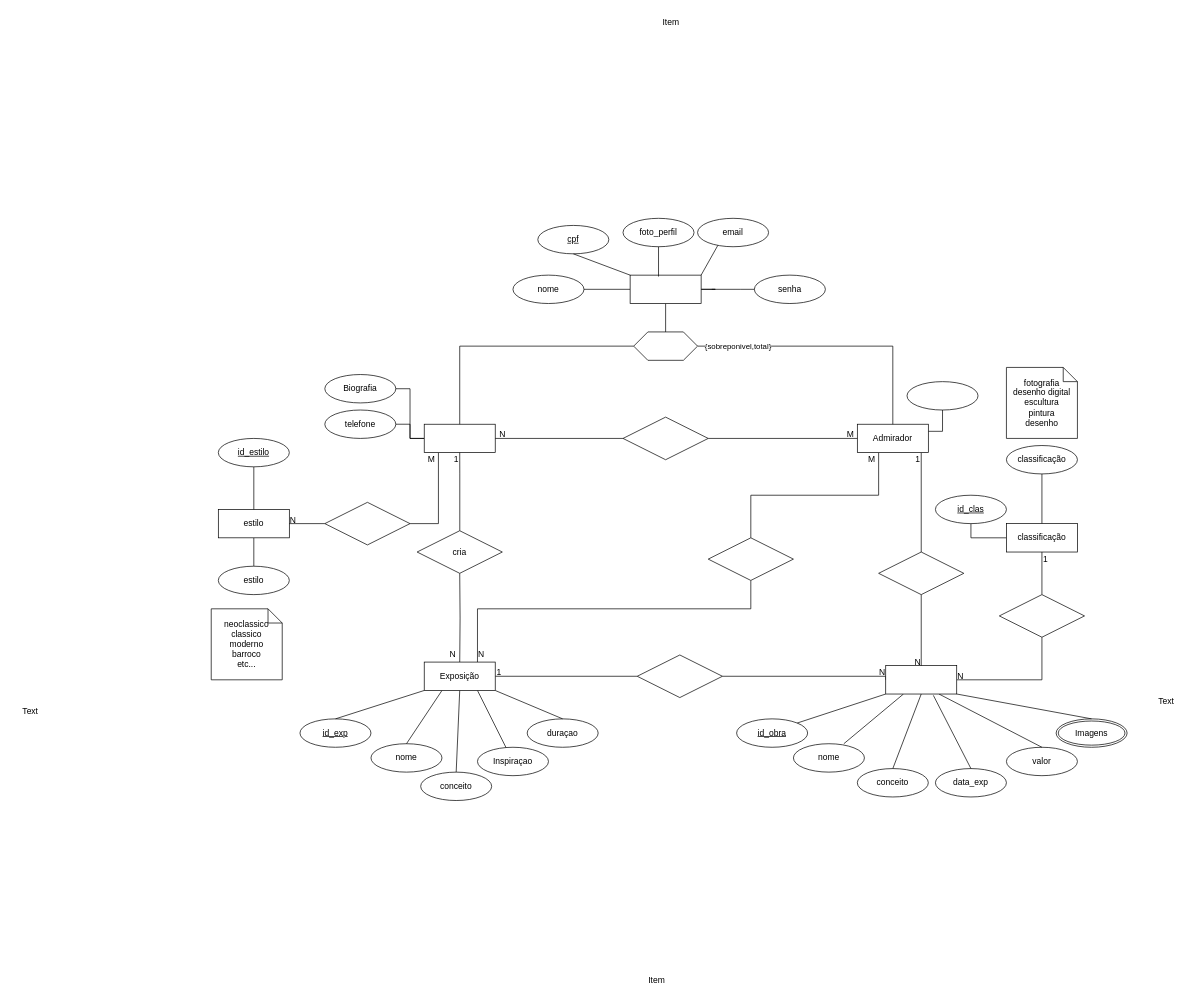
Image size: 1196x1006. Some labels were removed from this diagram. The centre of each missing label's shape, as x and y in pixels:
Artista: the point at 459,438
compra: the point at 921,573
contém: the point at 679,676
favorita: the point at 665,438
Obra: the point at 921,679
possui: the point at 367,523
tem: the point at 1042,615
Tipo: the point at 665,345
Usuários: the point at 665,289
visita: the point at 750,558
é_investidor: the point at 942,395
